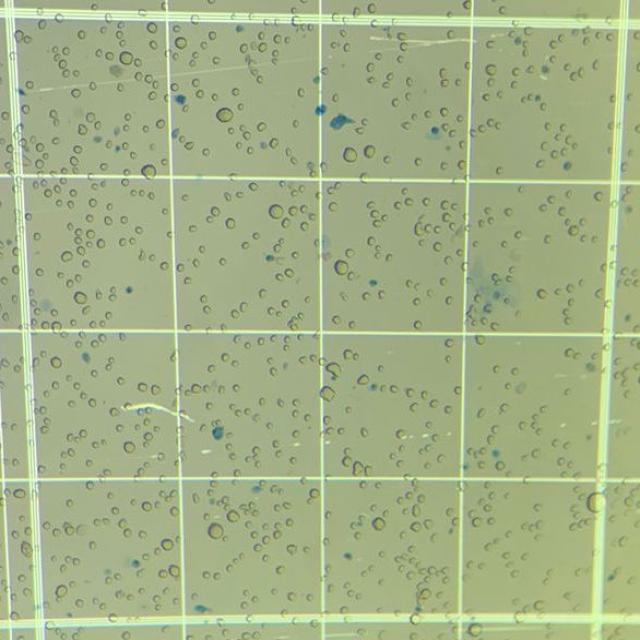Cell: (586, 491, 605, 511), (216, 106, 234, 124), (207, 522, 225, 539), (319, 385, 335, 402), (325, 362, 341, 379), (108, 64, 125, 79), (268, 204, 284, 219), (334, 259, 349, 275), (342, 147, 358, 162), (141, 164, 156, 178), (119, 51, 134, 65), (20, 540, 32, 557), (372, 517, 386, 531), (54, 584, 68, 598), (414, 221, 427, 236), (594, 285, 607, 300), (74, 291, 88, 304), (160, 538, 174, 551), (175, 36, 188, 50), (226, 509, 240, 522), (352, 462, 365, 476), (418, 588, 431, 602), (468, 623, 482, 636), (13, 29, 24, 45), (363, 145, 376, 158), (484, 64, 498, 76), (50, 356, 62, 369), (123, 441, 136, 453), (168, 564, 180, 577), (64, 523, 76, 536), (36, 18, 48, 31), (21, 585, 33, 598), (136, 529, 149, 541), (290, 15, 302, 28), (247, 180, 260, 192), (12, 488, 26, 499), (467, 305, 478, 319), (51, 321, 62, 335), (536, 288, 548, 300), (357, 374, 369, 386), (122, 528, 134, 540), (399, 42, 411, 54), (226, 172, 238, 184), (457, 480, 469, 492), (11, 265, 24, 276), (565, 282, 576, 295), (142, 431, 155, 442), (498, 403, 509, 416), (104, 12, 114, 26), (412, 503, 422, 517), (575, 13, 589, 23), (34, 545, 44, 559), (61, 251, 73, 262), (146, 22, 158, 33), (308, 488, 320, 499), (514, 612, 526, 623), (160, 0, 171, 12), (147, 90, 158, 102), (546, 194, 558, 205), (456, 158, 467, 170), (222, 190, 233, 202), (372, 219, 384, 230), (288, 205, 299, 217), (314, 238, 325, 250), (339, 291, 350, 303), (258, 288, 270, 299), (342, 454, 352, 467), (190, 14, 200, 27), (351, 6, 361, 19), (400, 121, 413, 131), (607, 120, 620, 130), (342, 616, 358, 624), (396, 32, 410, 41), (568, 225, 579, 236), (225, 218, 236, 229), (141, 501, 152, 512), (77, 124, 88, 135), (150, 384, 161, 395), (77, 29, 88, 40), (286, 544, 297, 555), (76, 524, 87, 535), (244, 10, 255, 21), (85, 112, 96, 123), (525, 64, 536, 75), (51, 136, 62, 147), (103, 215, 114, 226), (503, 207, 514, 218), (603, 299, 614, 310), (600, 327, 611, 338), (509, 366, 520, 377), (443, 354, 454, 365), (245, 612, 256, 623), (176, 451, 187, 462), (191, 383, 202, 394), (423, 519, 434, 530), (410, 522, 422, 532), (35, 6, 45, 18), (58, 58, 68, 70), (533, 600, 545, 610), (72, 556, 82, 568), (52, 528, 62, 540), (462, 0, 474, 10), (258, 42, 268, 54), (272, 33, 282, 45), (440, 106, 450, 118), (438, 67, 448, 79), (463, 62, 475, 72), (626, 148, 636, 160), (619, 161, 629, 173), (69, 156, 81, 166), (75, 246, 87, 256), (441, 212, 453, 222), (576, 276, 586, 288), (298, 221, 310, 231), (281, 217, 291, 229), (346, 270, 356, 282), (444, 255, 454, 267), (460, 260, 470, 272), (287, 316, 299, 326), (136, 468, 148, 478), (175, 434, 185, 446), (322, 414, 332, 426), (445, 505, 455, 517), (15, 176, 28, 185), (326, 187, 339, 196), (27, 564, 40, 573), (578, 66, 586, 80), (210, 206, 220, 217), (256, 122, 267, 132), (396, 428, 406, 439), (137, 382, 148, 392), (433, 241, 443, 252), (283, 268, 294, 278), (471, 517, 482, 527), (72, 68, 82, 79), (440, 200, 450, 211), (594, 191, 604, 202), (475, 335, 486, 345), (409, 402, 420, 412), (617, 536, 627, 547), (45, 620, 56, 630), (58, 564, 68, 575), (88, 540, 98, 551), (11, 530, 21, 541), (117, 518, 128, 528), (148, 40, 158, 51), (329, 41, 340, 51), (370, 18, 381, 28), (392, 17, 402, 28), (498, 5, 508, 16), (592, 59, 602, 70), (395, 54, 406, 64), (481, 92, 492, 102), (609, 199, 620, 209), (469, 128, 479, 139), (248, 59, 258, 70), (241, 131, 252, 141), (35, 142, 46, 152), (88, 198, 99, 208), (99, 162, 110, 172), (166, 230, 177, 240), (12, 246, 22, 257), (366, 200, 377, 210), (370, 210, 381, 220), (543, 234, 553, 245), (308, 211, 318, 222), (272, 244, 283, 254), (473, 292, 483, 303), (482, 303, 492, 314), (490, 321, 500, 332), (564, 347, 574, 358), (620, 367, 630, 378), (490, 364, 501, 374), (362, 291, 372, 302), (347, 319, 358, 329), (230, 309, 240, 320), (81, 305, 92, 315), (114, 589, 124, 600), (261, 552, 271, 563), (233, 469, 244, 479), (343, 349, 353, 360), (430, 433, 440, 444), (531, 449, 542, 459), (468, 508, 479, 518), (451, 516, 461, 527), (326, 583, 336, 594), (377, 630, 388, 640), (406, 570, 416, 581), (572, 603, 583, 613), (67, 580, 79, 589), (154, 603, 166, 612), (485, 40, 497, 49), (569, 28, 581, 37), (550, 148, 559, 160), (534, 159, 546, 168), (600, 262, 609, 274), (377, 289, 386, 301), (31, 489, 43, 498), (27, 439, 36, 451), (569, 503, 581, 512), (546, 567, 558, 576), (572, 512, 585, 520), (269, 138, 279, 148), (495, 460, 505, 470), (344, 248, 354, 258), (71, 88, 81, 98), (54, 13, 64, 23), (562, 161, 572, 171), (393, 200, 403, 210), (89, 2, 99, 12), (61, 69, 71, 79), (413, 157, 423, 167), (328, 202, 338, 212), (359, 172, 369, 182), (444, 338, 454, 348), (287, 592, 297, 602), (169, 506, 179, 516), (109, 407, 119, 417), (367, 4, 377, 14), (10, 610, 20, 620), (410, 614, 420, 624), (198, 245, 208, 255), (218, 256, 228, 266), (183, 276, 193, 286), (8, 51, 18, 61), (88, 81, 98, 91), (105, 51, 115, 61), (128, 497, 138, 507), (152, 594, 162, 604), (125, 593, 135, 603), (114, 30, 124, 40), (138, 8, 148, 18), (172, 24, 182, 34), (523, 26, 533, 36), (548, 40, 558, 50), (558, 34, 568, 44), (594, 30, 604, 40), (48, 108, 58, 118), (170, 82, 180, 92), (211, 55, 221, 65), (446, 30, 456, 40), (385, 71, 395, 81), (390, 97, 400, 107), (440, 78, 450, 88), (486, 78, 496, 88), (496, 89, 506, 99), (509, 80, 519, 90), (540, 142, 550, 152), (607, 146, 617, 156), (495, 166, 505, 176), (356, 126, 366, 136), (195, 89, 205, 99), (148, 142, 158, 152), (160, 157, 170, 167), (35, 158, 45, 168), (68, 188, 78, 198), (122, 167, 132, 177), (120, 177, 130, 187), (96, 239, 106, 249), (86, 230, 96, 240), (85, 214, 95, 224), (0, 276, 10, 286), (448, 222, 458, 232), (514, 230, 524, 240), (609, 261, 619, 271), (552, 286, 562, 296), (299, 204, 309, 214), (601, 342, 611, 352), (620, 378, 630, 388), (274, 272, 284, 282), (199, 293, 209, 303), (40, 321, 50, 331), (78, 390, 88, 400), (18, 354, 28, 364), (40, 425, 50, 435), (36, 464, 46, 474), (104, 576, 114, 586), (136, 568, 146, 578), (160, 624, 170, 634), (252, 630, 262, 640), (169, 488, 179, 498), (222, 495, 232, 505), (228, 452, 238, 462), (204, 401, 214, 411), (172, 398, 182, 408), (252, 412, 262, 422), (308, 353, 318, 363), (389, 384, 399, 394), (476, 408, 486, 418), (269, 484, 279, 494), (282, 501, 292, 511), (272, 530, 282, 540), (486, 435, 496, 445), (490, 424, 500, 434), (518, 421, 528, 431), (540, 404, 550, 414), (556, 456, 566, 466), (624, 496, 634, 506), (585, 517, 595, 527), (519, 522, 529, 532), (417, 494, 427, 504), (310, 619, 320, 629), (320, 610, 330, 620), (305, 593, 315, 603), (428, 566, 438, 576), (622, 612, 632, 622), (61, 45, 70, 56), (360, 427, 369, 438), (269, 366, 278, 377), (367, 236, 376, 247), (176, 262, 185, 273), (77, 625, 88, 634), (42, 520, 51, 531), (141, 552, 152, 561), (342, 42, 351, 53), (21, 104, 30, 115), (93, 120, 102, 131), (163, 48, 172, 59), (239, 43, 248, 54), (366, 62, 375, 73), (563, 134, 572, 145), (440, 161, 449, 172), (458, 140, 467, 151), (184, 142, 195, 151), (44, 188, 53, 199), (72, 145, 83, 154), (119, 237, 128, 248), (609, 244, 620, 253), (567, 297, 576, 308), (67, 447, 76, 458), (66, 433, 75, 444), (241, 631, 252, 640), (239, 601, 250, 610), (218, 323, 227, 334), (419, 390, 428, 401), (428, 399, 439, 408), (411, 477, 420, 488), (629, 487, 640, 496), (461, 573, 472, 582), (540, 577, 551, 586), (299, 22, 307, 34), (249, 41, 257, 53), (138, 249, 146, 261), (192, 492, 200, 504), (174, 386, 182, 398), (365, 465, 373, 477), (577, 519, 585, 531), (399, 530, 407, 542), (504, 561, 516, 569), (436, 632, 448, 640), (276, 565, 285, 575), (156, 119, 165, 129), (24, 35, 33, 45), (413, 320, 423, 329), (332, 315, 341, 325), (85, 481, 95, 490), (221, 352, 230, 362), (202, 305, 212, 314), (116, 376, 125, 386), (75, 598, 84, 608), (253, 543, 263, 552), (121, 631, 131, 640), (158, 569, 168, 578), (624, 205, 634, 214), (192, 258, 201, 268), (95, 48, 104, 58), (59, 631, 69, 640), (91, 595, 100, 605), (99, 602, 108, 612), (17, 574, 27, 583), (65, 498, 74, 508), (93, 517, 102, 527), (102, 517, 112, 526), (111, 506, 120, 516), (137, 586, 146, 596), (331, 12, 340, 22), (605, 32, 614, 42), (563, 62, 572, 72), (25, 80, 35, 89), (1, 111, 10, 121), (123, 112, 132, 122), (134, 58, 143, 68), (134, 71, 143, 81), (191, 50, 200, 60), (208, 30, 217, 40), (320, 67, 330, 76), (423, 109, 432, 119), (609, 93, 618, 103), (560, 148, 569, 158), (463, 174, 473, 183), (452, 177, 462, 186), (478, 124, 487, 134), (332, 93, 341, 103), (210, 92, 219, 102), (12, 130, 21, 140), (28, 134, 37, 144), (48, 169, 58, 178), (66, 200, 76, 209), (86, 172, 95, 182), (105, 201, 114, 211), (120, 216, 129, 226), (128, 237, 138, 246), (81, 259, 91, 268), (33, 232, 42, 242), (1, 312, 10, 322), (35, 268, 45, 277), (188, 224, 198, 233), (235, 190, 245, 199), (319, 161, 328, 171), (421, 197, 431, 206), (590, 235, 600, 244), (620, 266, 629, 276), (563, 316, 572, 326), (240, 241, 250, 250), (455, 248, 465, 257), (463, 275, 473, 284), (505, 274, 514, 284), (480, 316, 489, 326), (573, 351, 582, 361), (590, 352, 599, 362), (613, 331, 622, 341), (629, 337, 638, 347), (621, 390, 631, 399), (267, 306, 276, 316), (239, 302, 248, 312), (95, 291, 104, 301), (78, 330, 87, 340), (51, 381, 60, 391), (1, 358, 10, 368), (78, 429, 88, 438), (85, 458, 94, 468), (103, 468, 113, 477), (4, 586, 14, 595), (202, 570, 212, 579), (262, 534, 271, 544), (244, 520, 253, 530), (209, 479, 219, 488), (209, 471, 219, 480), (247, 501, 257, 510), (202, 384, 211, 394), (233, 334, 242, 344), (313, 329, 323, 338), (231, 383, 241, 392), (252, 446, 261, 456), (271, 439, 281, 448), (276, 398, 285, 408), (289, 456, 298, 466), (406, 388, 415, 398), (443, 405, 453, 414), (454, 386, 463, 396), (359, 480, 368, 490), (326, 426, 335, 436), (344, 405, 354, 414), (424, 421, 434, 430), (551, 438, 560, 448), (523, 476, 533, 485), (577, 492, 586, 502), (608, 514, 618, 523), (533, 503, 542, 513), (476, 497, 486, 506), (487, 491, 496, 501), (405, 490, 414, 500), (428, 532, 437, 542), (408, 544, 418, 553), (280, 609, 289, 619), (290, 617, 300, 626), (346, 588, 355, 598), (393, 555, 403, 564), (397, 564, 407, 573), (520, 552, 530, 561), (592, 549, 602, 558), (612, 566, 622, 575), (626, 576, 635, 586), (602, 596, 612, 605), (522, 604, 532, 613), (562, 591, 572, 600), (569, 71, 577, 82), (116, 82, 124, 93), (405, 76, 413, 87), (626, 92, 634, 103), (544, 121, 552, 132), (558, 206, 566, 217), (249, 69, 260, 77), (382, 156, 393, 164), (424, 223, 432, 234), (515, 310, 523, 321), (298, 477, 309, 485), (437, 452, 445, 463), (622, 476, 630, 487), (338, 606, 349, 614), (409, 632, 420, 640), (544, 632, 555, 640), (511, 597, 522, 605), (605, 15, 612, 27), (227, 126, 236, 135), (98, 26, 107, 35), (412, 297, 421, 306), (281, 299, 290, 308), (9, 593, 18, 602), (172, 597, 181, 606), (190, 592, 199, 601), (116, 20, 125, 29), (507, 29, 516, 38), (522, 49, 531, 58), (582, 26, 591, 35), (582, 37, 591, 46), (52, 118, 61, 127), (257, 31, 266, 40), (539, 102, 548, 111), (553, 133, 562, 142), (564, 190, 573, 199), (538, 203, 547, 212), (309, 169, 318, 178), (12, 185, 21, 194), (16, 122, 25, 131), (18, 138, 27, 147), (85, 240, 94, 249), (181, 193, 190, 202), (205, 215, 214, 224), (315, 191, 324, 200), (401, 187, 410, 196), (417, 238, 426, 247), (463, 223, 472, 232), (483, 206, 492, 215), (579, 234, 588, 243), (561, 307, 570, 316), (252, 231, 261, 240), (276, 257, 285, 266), (439, 277, 448, 286), (612, 357, 621, 366), (98, 333, 107, 342), (67, 400, 76, 409), (43, 417, 52, 426), (10, 422, 19, 431), (115, 424, 124, 433), (157, 453, 166, 462), (231, 478, 240, 487), (207, 364, 216, 373), (265, 422, 274, 431), (292, 429, 301, 438), (318, 357, 327, 366), (424, 443, 433, 452), (530, 421, 539, 430), (377, 578, 386, 587), (408, 556, 417, 565), (418, 567, 427, 576), (440, 566, 449, 575), (476, 562, 485, 571), (51, 44, 59, 54), (24, 526, 32, 536), (106, 491, 114, 501), (154, 546, 162, 556), (273, 17, 281, 27), (307, 22, 315, 32), (145, 74, 153, 84), (163, 93, 171, 103), (271, 57, 279, 67), (374, 53, 384, 61), (381, 80, 391, 88), (404, 91, 412, 101), (456, 114, 464, 124), (512, 67, 520, 77), (549, 54, 557, 64), (559, 123, 567, 133), (620, 192, 628, 202), (564, 216, 572, 226), (486, 117, 494, 127), (494, 120, 502, 130), (192, 78, 200, 88), (182, 104, 190, 114), (290, 156, 298, 166), (105, 139, 113, 149), (122, 141, 130, 151), (6, 144, 14, 154), (32, 180, 40, 190), (54, 184, 62, 194), (90, 183, 100, 191), (100, 178, 108, 188), (134, 226, 144, 234), (66, 222, 74, 232), (74, 228, 84, 236), (66, 279, 74, 289), (74, 273, 82, 283), (298, 184, 306, 194), (404, 198, 414, 206), (462, 212, 470, 222), (487, 216, 495, 226), (624, 278, 632, 288), (405, 278, 413, 288), (426, 288, 434, 298), (563, 387, 571, 397), (289, 324, 299, 332), (105, 310, 113, 320), (33, 308, 43, 316), (91, 339, 99, 349), (118, 332, 126, 342), (88, 398, 96, 408), (73, 381, 81, 391), (65, 372, 73, 382), (32, 356, 40, 366), (0, 421, 8, 431), (12, 458, 20, 468), (158, 474, 166, 484), (143, 417, 151, 427), (3, 488, 11, 498), (0, 497, 8, 507), (221, 628, 231, 636), (251, 596, 261, 604), (226, 564, 234, 574), (251, 530, 259, 540), (97, 473, 105, 483), (225, 442, 233, 452), (170, 353, 178, 363), (218, 384, 226, 394), (254, 461, 262, 471), (252, 454, 262, 462), (274, 449, 282, 459), (292, 398, 300, 408), (286, 518, 294, 528), (324, 510, 332, 520), (402, 473, 412, 481), (478, 460, 486, 470), (563, 441, 571, 451), (632, 519, 640, 529), (568, 522, 576, 532), (535, 520, 543, 530), (533, 533, 543, 541), (528, 523, 536, 533), (484, 480, 492, 490), (376, 550, 386, 558), (356, 628, 366, 636), (510, 570, 520, 578), (536, 612, 546, 620), (54, 53, 62, 62), (297, 88, 305, 97), (445, 296, 453, 305), (108, 614, 117, 622), (624, 313, 632, 322), (312, 75, 320, 84), (119, 39, 127, 48), (71, 632, 80, 640), (64, 555, 72, 564), (18, 514, 26, 523), (162, 586, 170, 595), (228, 12, 236, 21), (262, 18, 270, 27), (289, 6, 297, 15), (339, 29, 347, 38), (200, 41, 208, 50), (271, 49, 280, 57), (454, 78, 462, 87), (625, 186, 634, 194), (579, 217, 587, 226), (448, 130, 457, 138), (441, 122, 449, 131), (231, 87, 239, 96), (142, 125, 150, 134), (178, 135, 187, 143), (285, 147, 293, 156), (130, 151, 138, 160), (40, 179, 48, 188), (60, 166, 68, 175), (55, 200, 64, 208), (148, 191, 156, 200), (24, 213, 33, 221), (18, 225, 26, 234), (26, 288, 34, 297), (50, 308, 59, 316), (630, 268, 638, 277), (632, 279, 640, 288), (384, 254, 393, 262), (500, 240, 508, 249), (508, 265, 516, 274), (494, 278, 503, 286), (632, 325, 640, 334), (632, 363, 640, 372), (504, 382, 512, 391), (109, 285, 117, 294), (108, 294, 117, 302), (88, 320, 97, 328), (60, 330, 69, 338), (74, 340, 82, 349), (105, 364, 114, 372), (90, 369, 98, 378), (28, 365, 37, 373), (13, 365, 22, 373), (39, 406, 48, 414), (91, 441, 99, 450), (124, 402, 133, 410), (41, 601, 50, 609), (26, 420, 35, 428), (260, 622, 269, 630), (270, 587, 278, 596), (213, 572, 222, 580), (154, 500, 162, 509), (223, 504, 232, 512), (175, 426, 184, 434), (178, 409, 186, 418), (184, 323, 192, 332), (257, 337, 265, 346), (270, 334, 278, 343), (266, 356, 275, 364), (230, 360, 239, 368), (243, 408, 252, 416), (258, 397, 266, 406), (298, 356, 307, 364), (377, 364, 385, 373), (273, 503, 281, 512), (274, 522, 283, 530), (302, 546, 311, 554), (322, 537, 330, 546), (374, 481, 383, 489), (318, 428, 326, 437), (324, 474, 333, 482), (343, 447, 352, 455), (398, 444, 406, 453), (424, 461, 432, 470), (479, 447, 488, 455), (572, 472, 580, 481), (572, 485, 581, 493), (483, 542, 491, 551), (483, 504, 492, 512), (503, 492, 511, 501), (395, 497, 404, 505), (358, 514, 367, 522), (342, 581, 350, 590), (393, 609, 402, 617), (368, 564, 377, 572), (441, 576, 450, 584), (436, 590, 444, 599), (575, 568, 583, 577), (620, 606, 629, 614), (615, 626, 623, 635), (451, 626, 460, 634), (206, 0, 216, 7), (511, 20, 521, 27), (152, 80, 159, 90), (284, 35, 291, 45), (527, 92, 534, 102), (292, 118, 299, 128), (37, 170, 44, 180), (414, 282, 421, 292), (205, 326, 212, 336), (282, 362, 289, 372), (336, 428, 346, 435), (466, 446, 473, 456), (633, 30, 640, 40), (0, 381, 6, 392), (160, 262, 168, 270), (216, 618, 224, 626), (260, 141, 268, 149), (236, 25, 244, 33), (148, 254, 156, 262), (54, 628, 62, 636), (522, 40, 530, 48), (366, 76, 374, 84), (517, 186, 525, 194), (256, 76, 264, 84), (202, 148, 210, 156), (235, 141, 243, 149), (246, 146, 254, 154), (238, 124, 246, 132), (4, 161, 12, 169), (7, 170, 15, 178), (42, 152, 50, 160), (129, 189, 137, 197), (138, 189, 146, 197), (15, 234, 23, 242), (56, 271, 64, 279), (278, 180, 286, 188), (290, 189, 298, 197), (616, 277, 624, 285), (291, 251, 299, 259), (472, 240, 480, 248), (491, 272, 499, 280), (600, 366, 608, 374), (296, 311, 304, 319), (70, 319, 78, 327), (32, 407, 40, 415), (59, 462, 67, 470), (133, 474, 141, 482), (143, 460, 151, 468), (153, 425, 161, 433), (114, 573, 122, 581), (242, 589, 250, 597), (202, 513, 210, 521), (158, 490, 166, 498), (252, 510, 260, 518), (199, 424, 207, 432), (184, 389, 192, 397), (244, 342, 252, 350), (283, 335, 291, 343), (297, 333, 305, 341), (226, 431, 234, 439), (244, 455, 252, 463), (292, 409, 300, 417), (304, 414, 312, 422), (352, 353, 360, 361), (125, 616, 133, 624), (259, 479, 267, 487), (262, 523, 270, 531), (388, 452, 396, 460), (531, 413, 539, 421), (520, 454, 528, 462), (504, 470, 512, 478), (504, 530, 512, 538), (492, 537, 500, 545), (401, 507, 409, 515), (354, 532, 362, 540), (355, 592, 363, 600), (376, 607, 384, 615), (401, 552, 409, 560), (423, 576, 431, 584), (465, 560, 473, 568), (502, 552, 510, 560), (446, 610, 454, 618), (446, 10, 453, 19), (172, 52, 179, 61), (189, 59, 196, 68), (411, 112, 418, 121), (237, 102, 244, 111), (72, 167, 79, 176), (60, 176, 67, 185), (74, 237, 83, 244), (333, 182, 342, 189), (381, 213, 388, 222), (451, 202, 458, 211), (434, 225, 441, 234), (503, 297, 510, 306), (613, 372, 620, 381), (43, 390, 50, 399), (40, 350, 47, 359), (24, 383, 33, 390), (29, 398, 38, 405), (232, 557, 239, 566), (164, 496, 173, 503), (238, 503, 247, 510), (235, 408, 242, 417), (566, 460, 573, 469), (613, 485, 620, 494), (382, 509, 389, 518), (355, 521, 364, 528), (448, 618, 457, 625), (572, 141, 578, 151), (12, 294, 18, 304), (17, 634, 27, 640), (185, 634, 195, 640), (204, 634, 214, 640), (350, 520, 356, 530), (416, 582, 426, 588), (606, 634, 616, 640), (634, 124, 640, 134), (50, 554, 57, 562), (1, 578, 8, 586), (123, 124, 130, 132), (361, 118, 368, 126), (162, 207, 169, 215), (29, 300, 37, 307), (478, 220, 485, 228), (278, 237, 285, 245), (471, 319, 478, 327), (276, 310, 283, 318), (31, 318, 38, 326), (2, 458, 10, 465), (134, 424, 141, 432), (145, 406, 152, 414), (175, 535, 182, 543), (238, 552, 245, 560), (207, 489, 214, 497), (216, 499, 224, 506), (243, 509, 250, 517), (174, 460, 182, 467), (228, 403, 236, 410), (379, 384, 386, 392), (306, 498, 314, 505), (396, 460, 404, 467), (472, 452, 480, 459), (488, 517, 495, 525), (370, 504, 377, 512), (324, 565, 331, 573), (320, 575, 327, 583), (360, 570, 368, 577), (546, 621, 553, 629), (464, 608, 471, 616), (13, 208, 22, 214), (100, 319, 106, 328), (138, 408, 144, 417), (536, 427, 542, 436), (430, 607, 439, 613), (636, 61, 640, 74), (0, 138, 7, 145), (374, 253, 381, 260), (375, 245, 382, 252), (304, 296, 311, 303), (60, 452, 67, 459), (35, 481, 42, 488), (283, 345, 290, 352), (134, 616, 141, 623), (585, 434, 592, 441), (520, 96, 526, 104), (108, 356, 114, 364), (74, 436, 80, 444), (100, 438, 108, 444), (215, 419, 223, 425), (278, 488, 284, 496), (418, 448, 424, 456), (560, 471, 566, 479), (444, 602, 452, 608), (387, 33, 393, 40), (143, 442, 150, 448), (222, 535, 228, 542), (477, 385, 483, 392), (414, 562, 420, 569), (307, 423, 312, 431), (636, 500, 640, 510), (211, 421, 216, 426)
